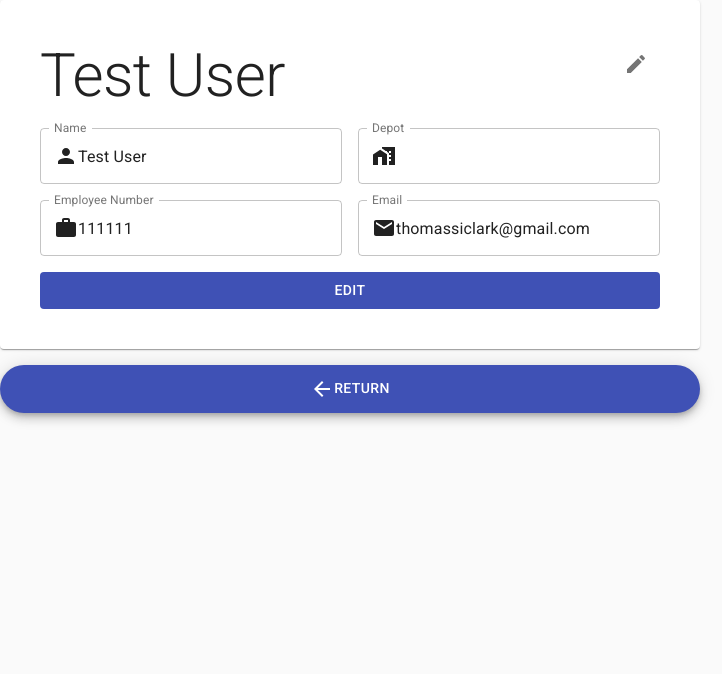
Test case: Edit mode toggle › Mode-specific buttons toggle correctly
Click the button with test id "Profile__edit-button-text". click: (350, 290)
box: x1=40 y1=272 x2=660 y2=308
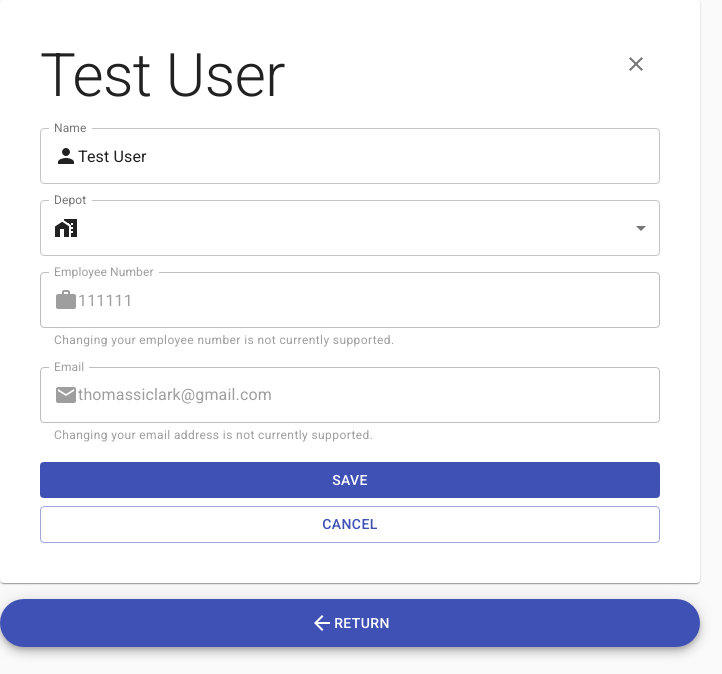
Now the button with test id "Profile__edit-button-text" is gone
Now the button with test id "Profile__edit-cancel-button" is shown, box x1=40 y1=506 x2=660 y2=543
Now the button with test id "Profile__edit-save-button" is shown, box x1=40 y1=462 x2=660 y2=498
